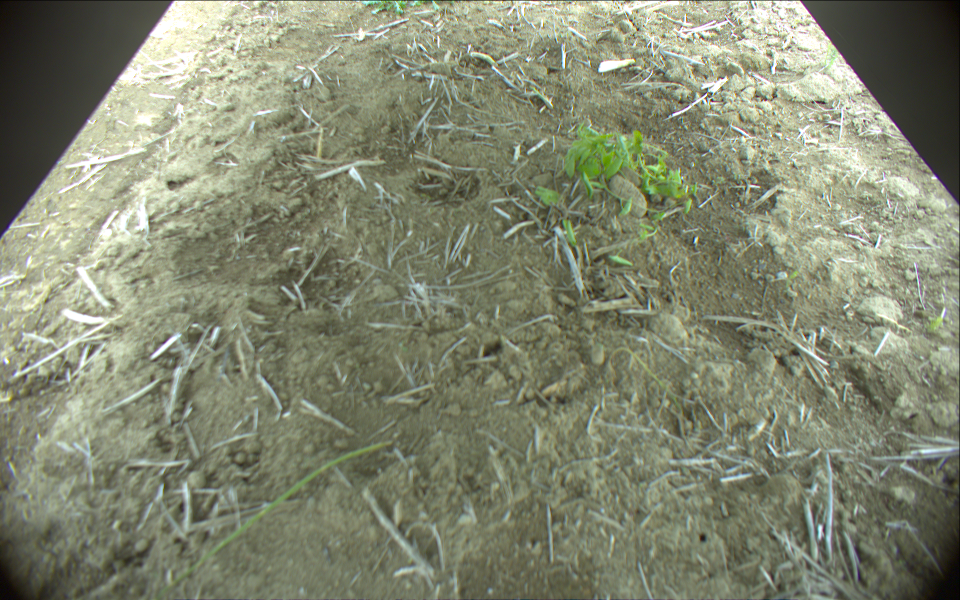aspa: (153, 441, 389, 600)
